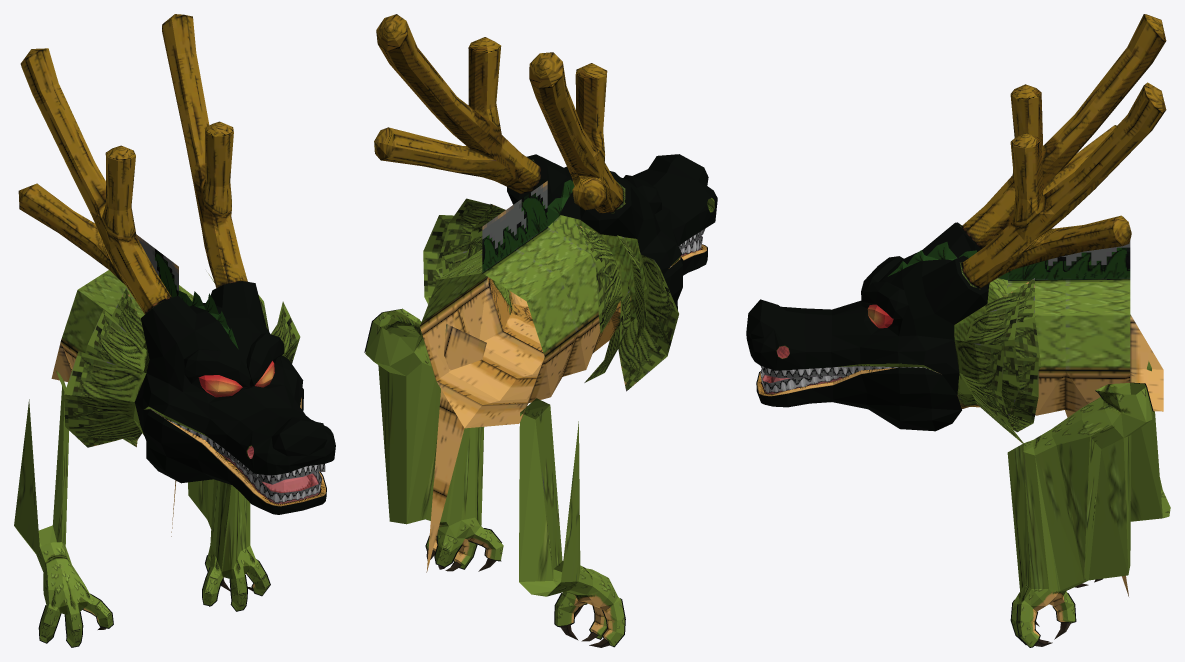
Rendered from metalkor-torso-lod0.glb.
The picture shows the model from 3 angles, left to right: view 1: azimuth 30°, elevation 25°; view 2: azimuth 150°, elevation 25°; view 3: azimuth 270°, elevation 25°; orthographic projection. The views are drawn at different scales.
Parts seen in each view (by area): view 1: metalkor-torso-lod0; view 2: metalkor-torso-lod0; view 3: metalkor-torso-lod0.
Boxes of the visible parts, x1=… form: metalkor-torso-lod0: x1=14, y1=14, x2=335, y2=647; metalkor-torso-lod0: x1=364, y1=14, x2=717, y2=647; metalkor-torso-lod0: x1=746, y1=14, x2=1170, y2=647.
Size of the model in its own units: 8.3 by 19.08 by 12.76.
1 material, 1 textured.
